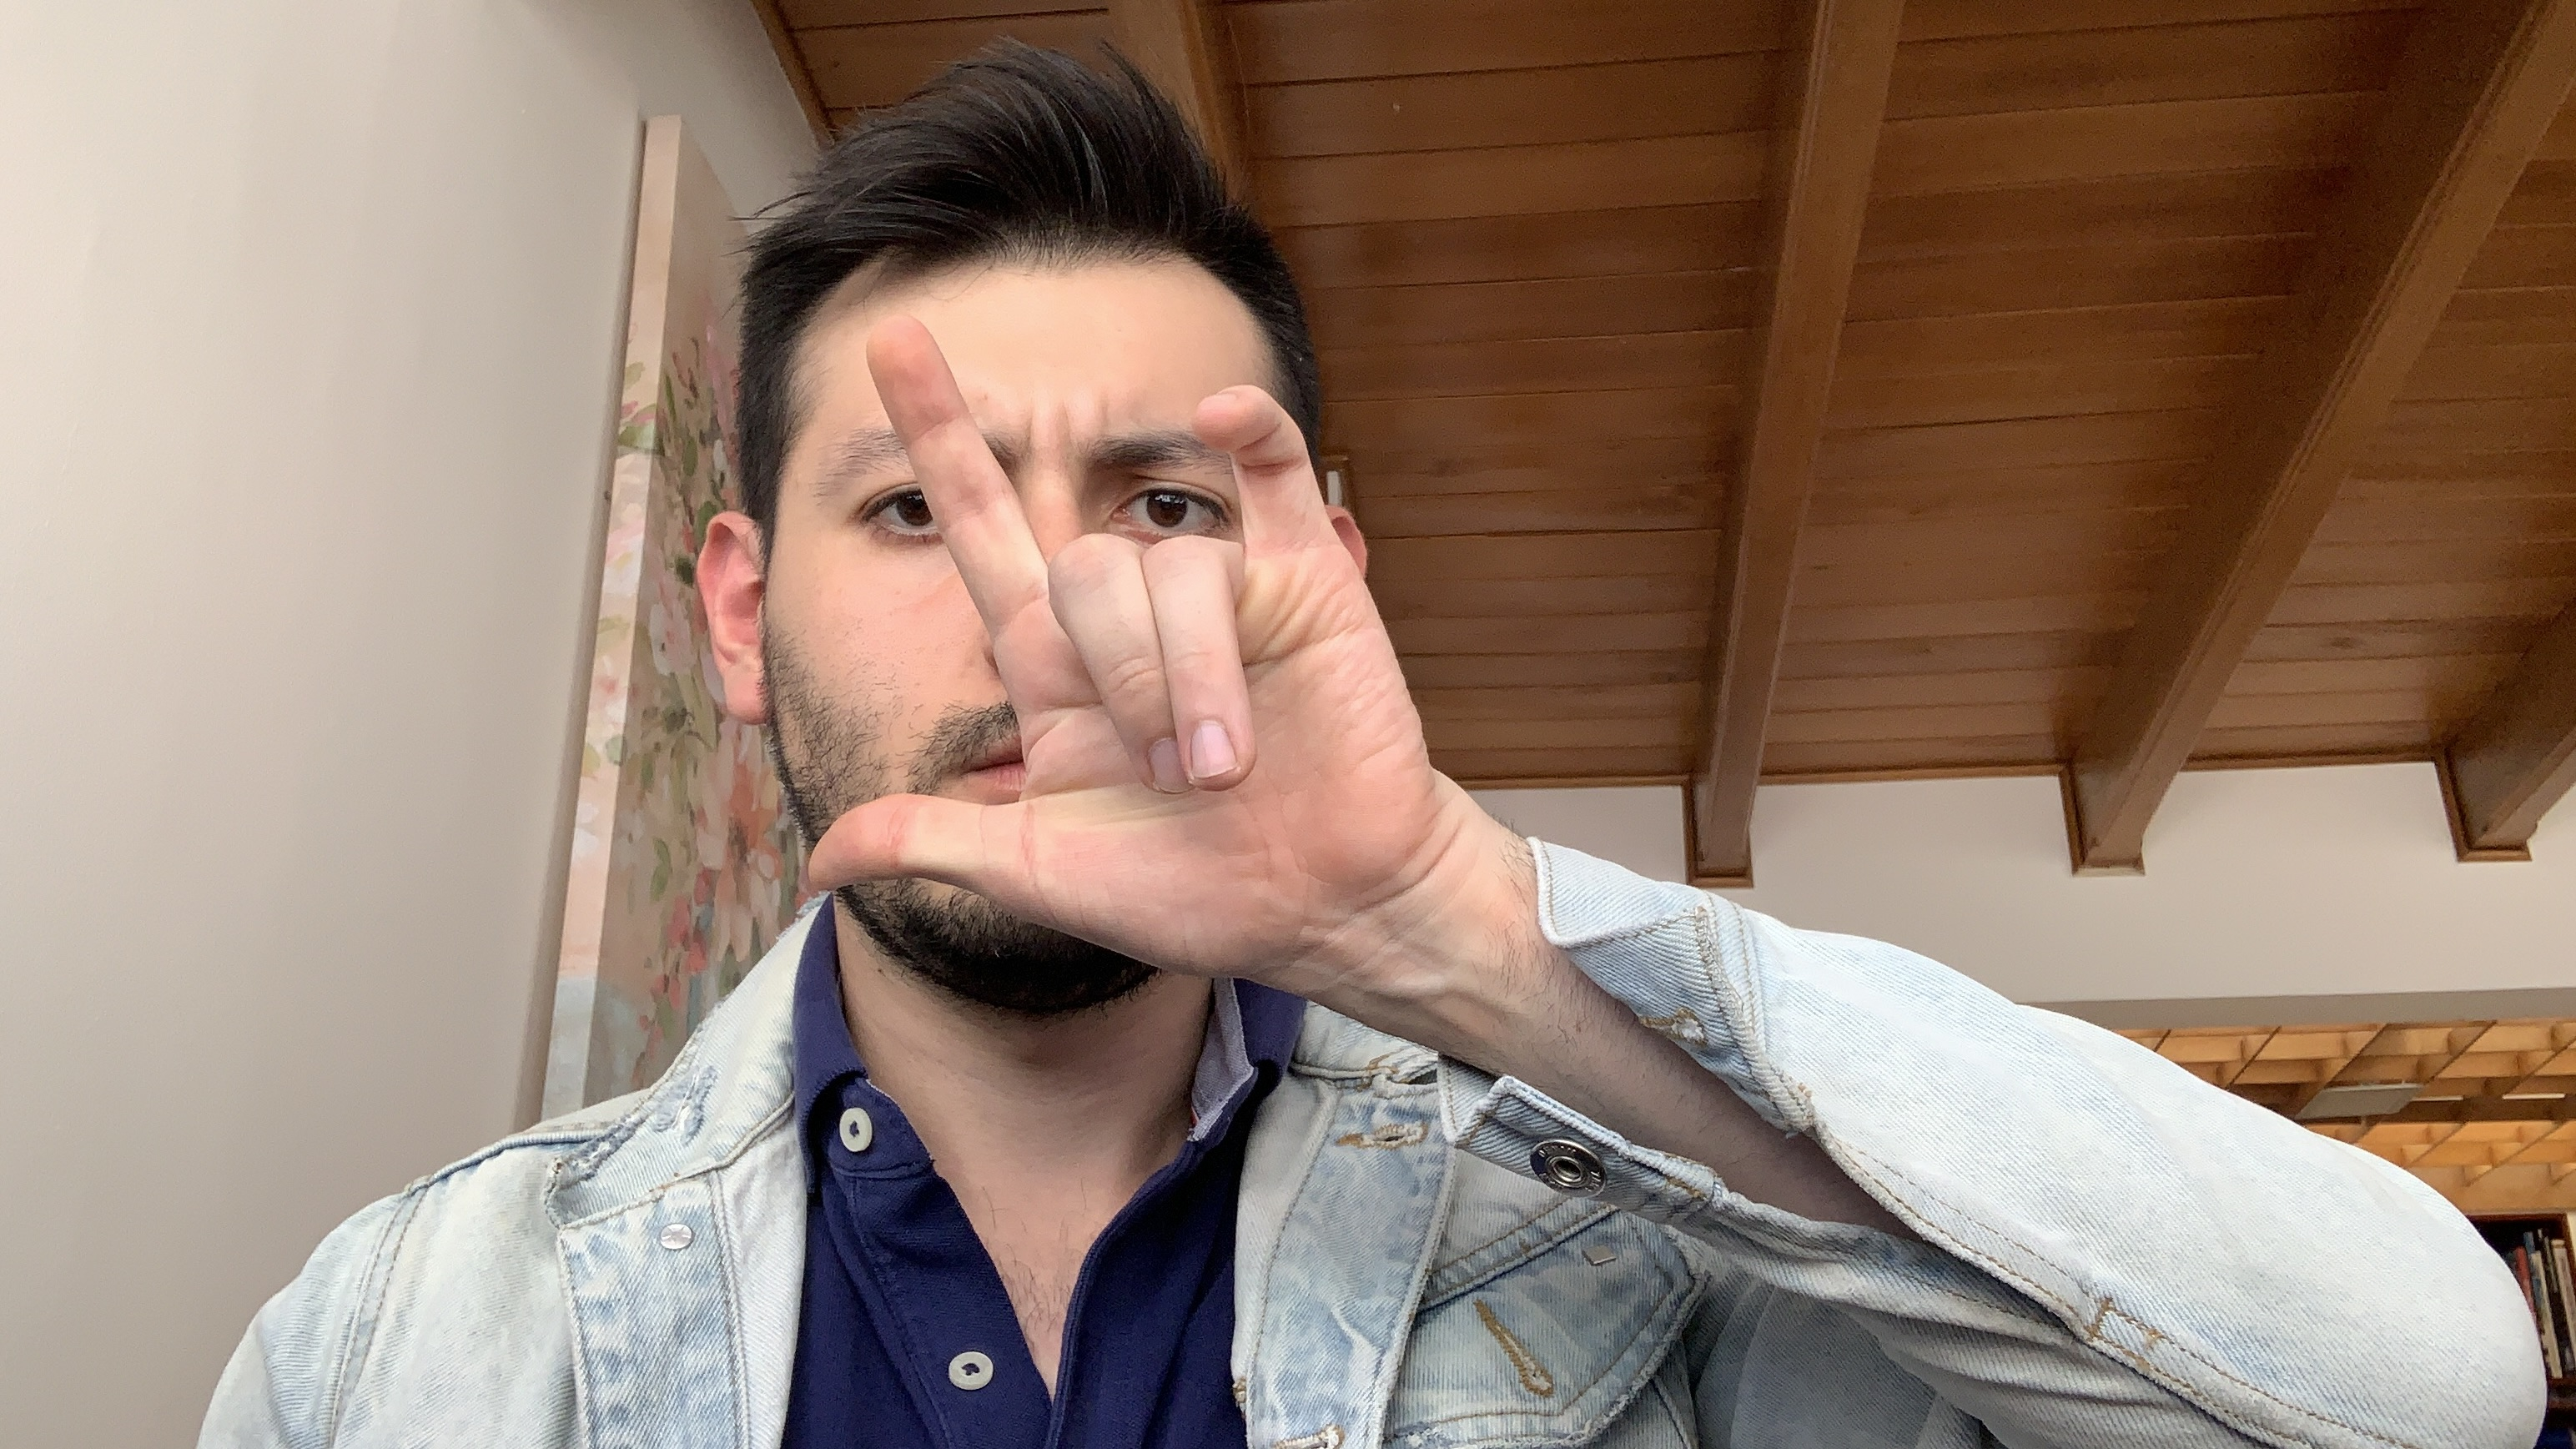I Love You: (800, 315, 1438, 998)
